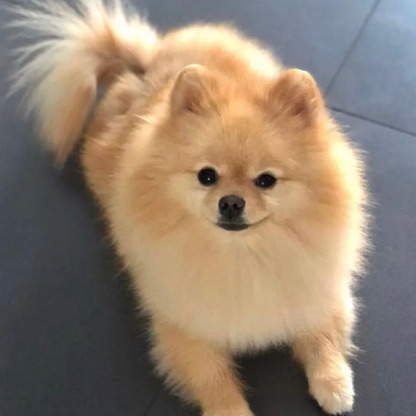Pomeranian: (42, 27, 376, 404)
